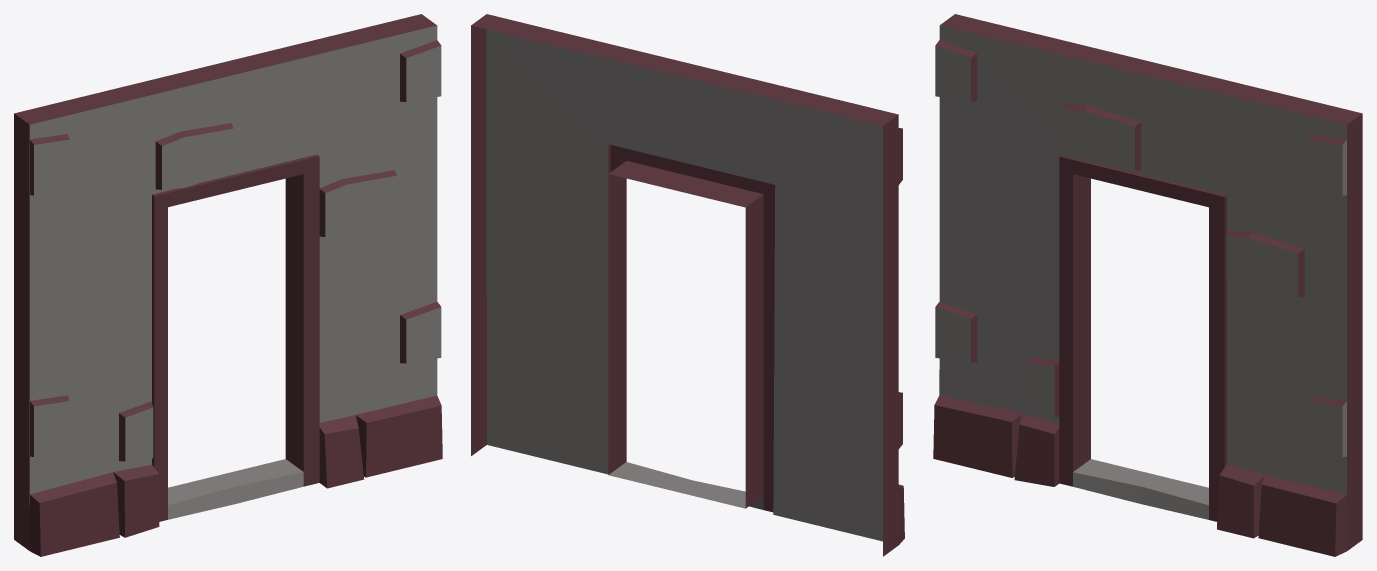
Rendered from wall-stone-door-3x3m-b.fbx.
3 views of the same model, side by side, from view 1: azimuth 30°, elevation 25°; view 2: azimuth 150°, elevation 25°; view 3: azimuth 330°, elevation 25° (orthographic).
Visible parts, largest first — view 1: wall-stone-door-3x3m-b; view 2: wall-stone-door-3x3m-b; view 3: wall-stone-door-3x3m-b.
Part boxes in pixels (x1=…): wall-stone-door-3x3m-b: x1=14, y1=14, x2=442, y2=556; wall-stone-door-3x3m-b: x1=471, y1=14, x2=904, y2=556; wall-stone-door-3x3m-b: x1=933, y1=14, x2=1362, y2=556.
Bounding box in the file's own units: 3 × 3 × 0.3283.
